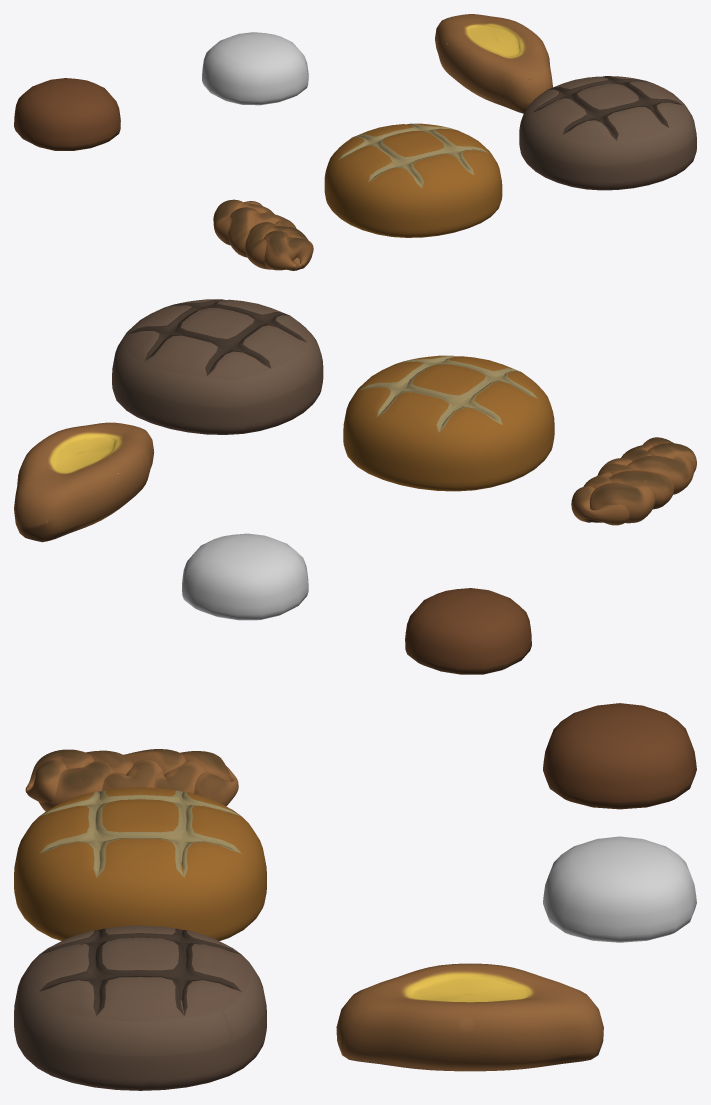
Rendered from pan.obj.
3 renders of one model, top to bottom at view 1: azimuth 30°, elevation 25°; view 2: azimuth 150°, elevation 25°; view 3: azimuth 270°, elevation 25°, orthographic. The views are drawn at different scales.
Parts seen in each view (by area): view 1: Plane.006_Plane.005; view 2: Plane.006_Plane.005; view 3: Plane.006_Plane.005.
Part boxes in pixels (x1,y1,x2,y2): Plane.006_Plane.005: (14, 14, 696, 270); Plane.006_Plane.005: (14, 299, 696, 674); Plane.006_Plane.005: (14, 703, 696, 1090).
Size of the model in its own units: 6.08 by 0.8317 by 4.98.
